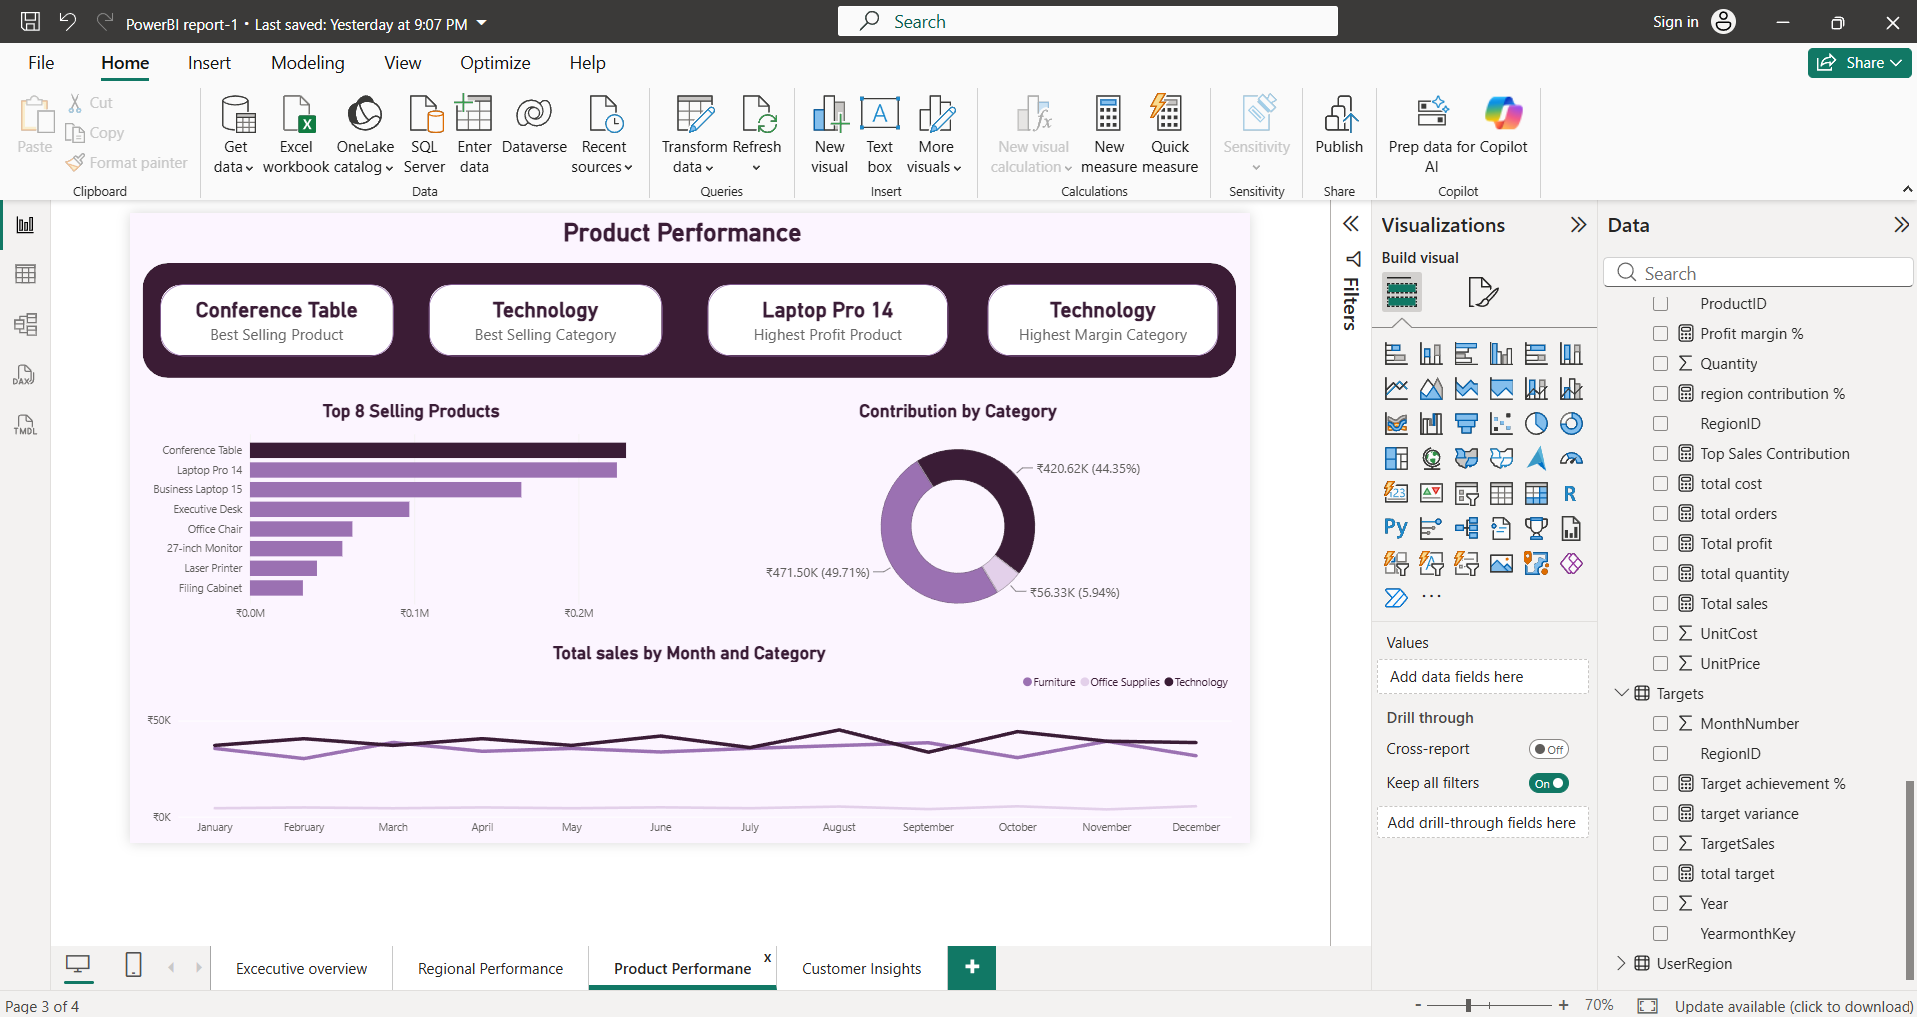

Layout of this report page (visuals, bound fields, positions):
{"tool":"powerbi","page":{"name":"Product Performane","canvas":[1280,720],"ordinal":3},"visuals":[{"type":"textbox","box":[490.7,0,298.6,57.1],"z":0},{"type":"shape","box":[14.3,57.1,1250,131.4],"z":1000},{"type":"cardVisual","fields":{"Data":["Products.Best Selling Product"]},"box":[14.3,61.4,307.1,122.9],"z":2000},{"type":"cardVisual","fields":{"Data":["Categories.Best Selling Category"]},"box":[321.4,61.4,307.1,122.9],"z":3000},{"type":"cardVisual","fields":{"Data":["Products.Highest Profit Product"]},"box":[640,61.4,315.7,122.9],"z":4000},{"type":"cardVisual","fields":{"Data":["Categories.Highest Maargin Category"]},"box":[960,61.4,304.3,122.9],"z":5000},{"type":"clusteredBarChart","title":"Top 8 Selling Products","fields":{"Category":["Products.ProductName"],"Y":["Sales.Total sales"]},"box":[14.3,214.3,614.3,261.4],"z":6000},{"type":"donutChart","title":"Contribution by Category","fields":{"Category":["Categories.Category"],"Y":["Sales.Total sales"]},"box":[628.6,214.3,635.7,261.4],"z":7000},{"type":"lineChart","fields":{"Category":["Calendar.MonthYear.Variation.Date Hierarchy.Month"],"Y":["Sales.Total sales"],"Series":["Categories.Category"]},"box":[14.3,490,1250,230],"z":8000},{"type":"actionButton","box":[0,0,126,47.7],"z":12000}]}

Visuals, with their boxes on the page's 1280x720 design canvas (x1, y1, x2, y2). These are canvas units, not pixel positions in the 1917x1017 screenshot, which may show the page scaled, cropped or inside an application window:
textbox: 491 0 789 57
shape: 14 57 1264 188
cardVisual - Products.Best Selling Product: 14 61 321 184
cardVisual - Categories.Best Selling Category: 321 61 628 184
cardVisual - Products.Highest Profit Product: 640 61 956 184
cardVisual - Categories.Highest Maargin Category: 960 61 1264 184
"Top 8 Selling Products" clusteredBarChart: 14 214 629 476
"Contribution by Category" donutChart: 629 214 1264 476
lineChart - Calendar.MonthYear.Variation.Date Hierarchy.Month x Sales.Total sales: 14 490 1264 720
actionButton: 0 0 126 48
